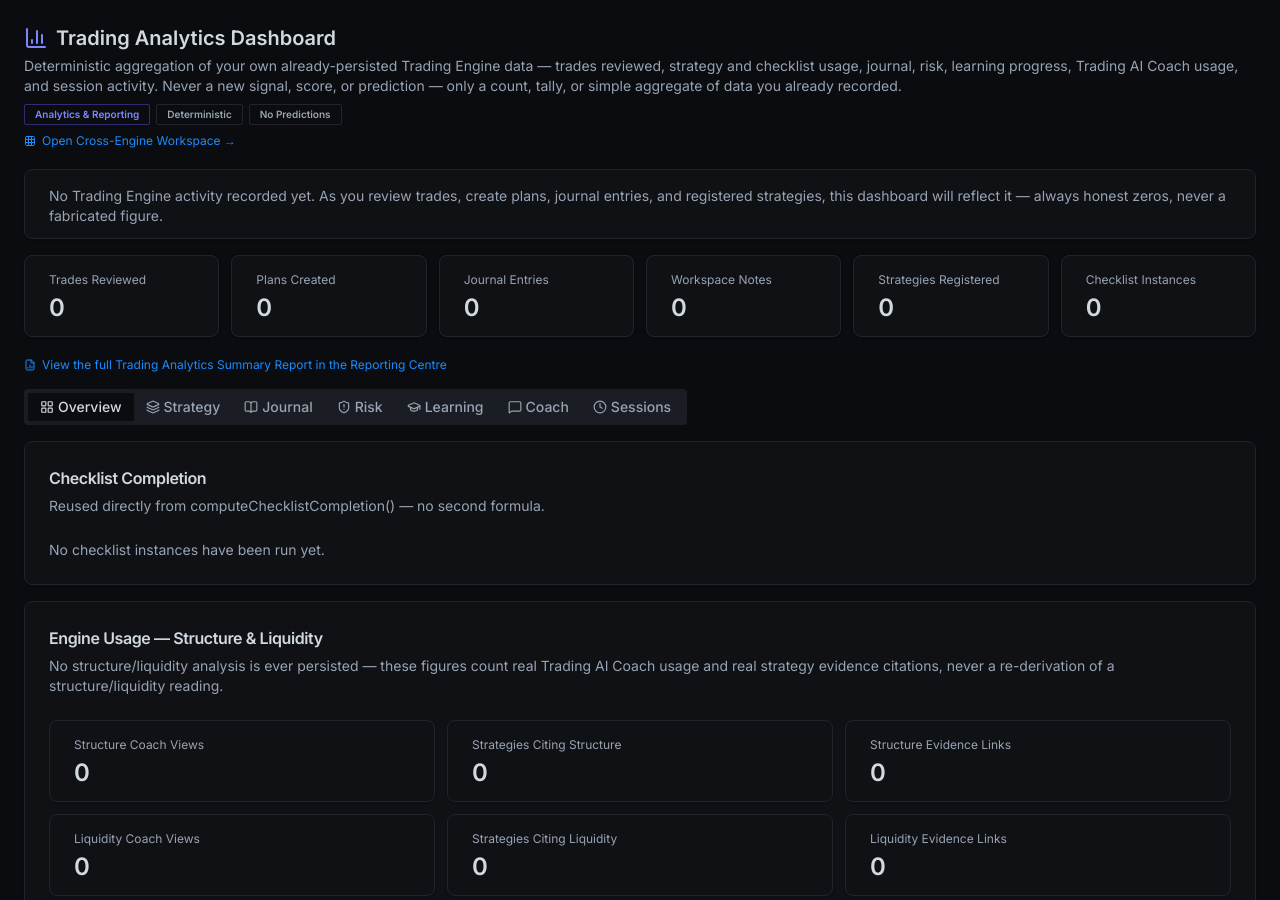
it: TradingAnalyticsDashboard page › Journal tab shows real mood/setup/R-multiple charts, honestly hidden when there are no entries
The width and height of the screenshot is (1280, 900).
Click the tab with test id "tab-journal-analytics".
click(278, 407)  # box [232, 393, 325, 421]
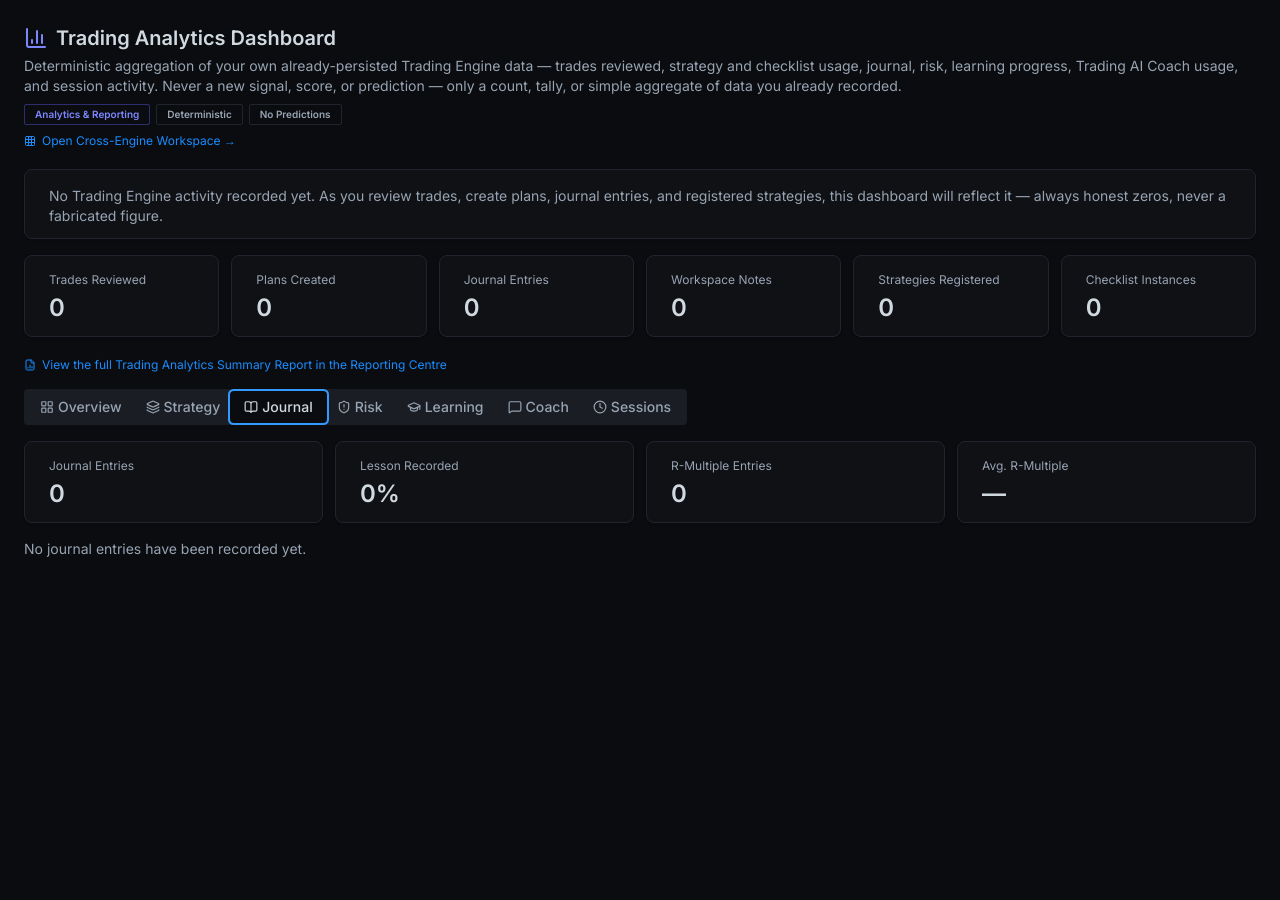
Check: the text "No journal entries have been recorded yet." is shown, box [24, 540, 306, 557]
